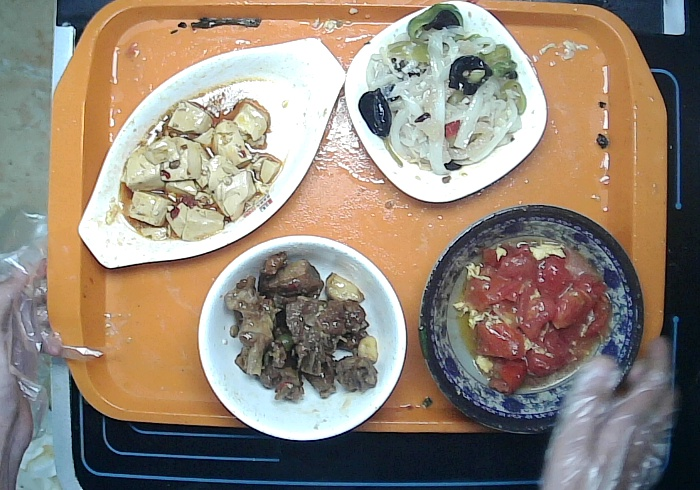ZNLD-Qing_Hua_Wan: (416, 200, 644, 440)
ZNLD-Si_Fang_Wan: (344, 3, 553, 205)
ZNLD-Tang_Wan: (191, 235, 407, 445)
ZNLD-Yu_Pan: (75, 35, 347, 270)
